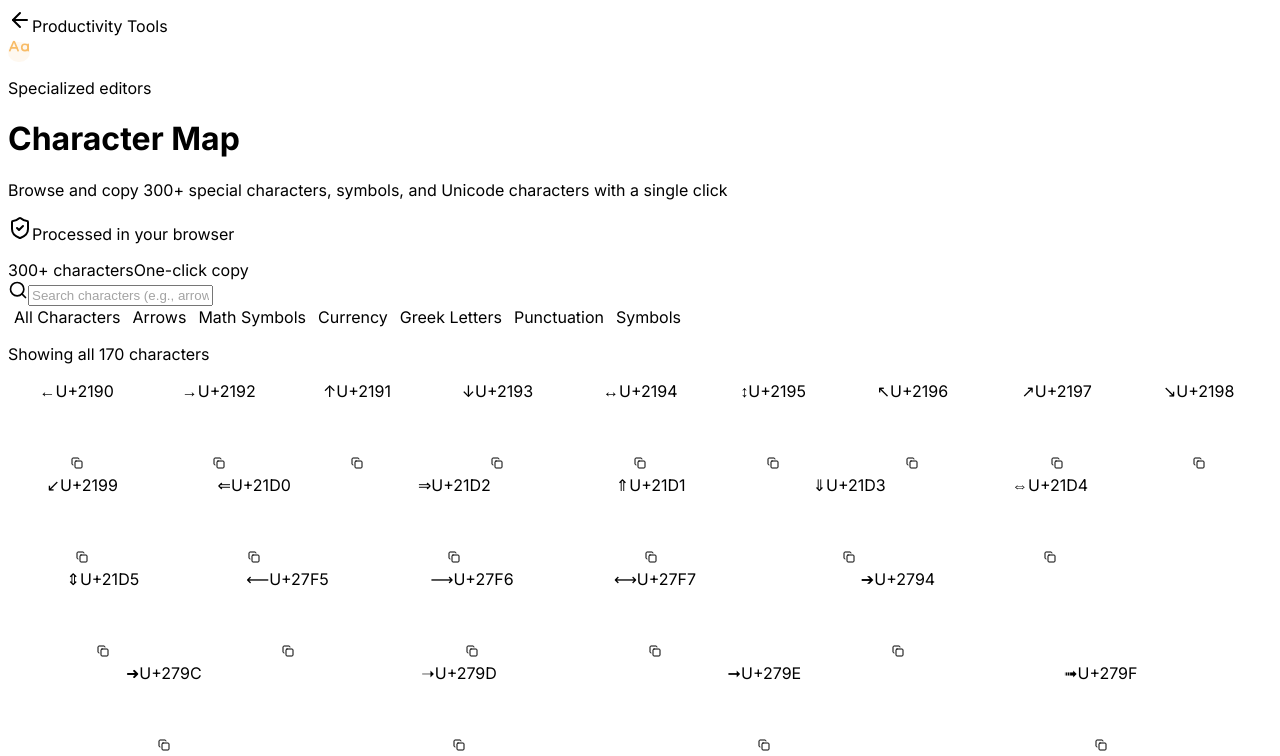
CharacterMapPage › search functionality › hides category buttons when searching
The width and height of the screenshot is (1280, 756).
Expected: the button "All Characters" is shown, [8,306,126,328]
Type "arrow" into the field with placeholder "Search characters (e.g., arrow, pi, euro)..." at [120, 295], box [28,285,213,306]
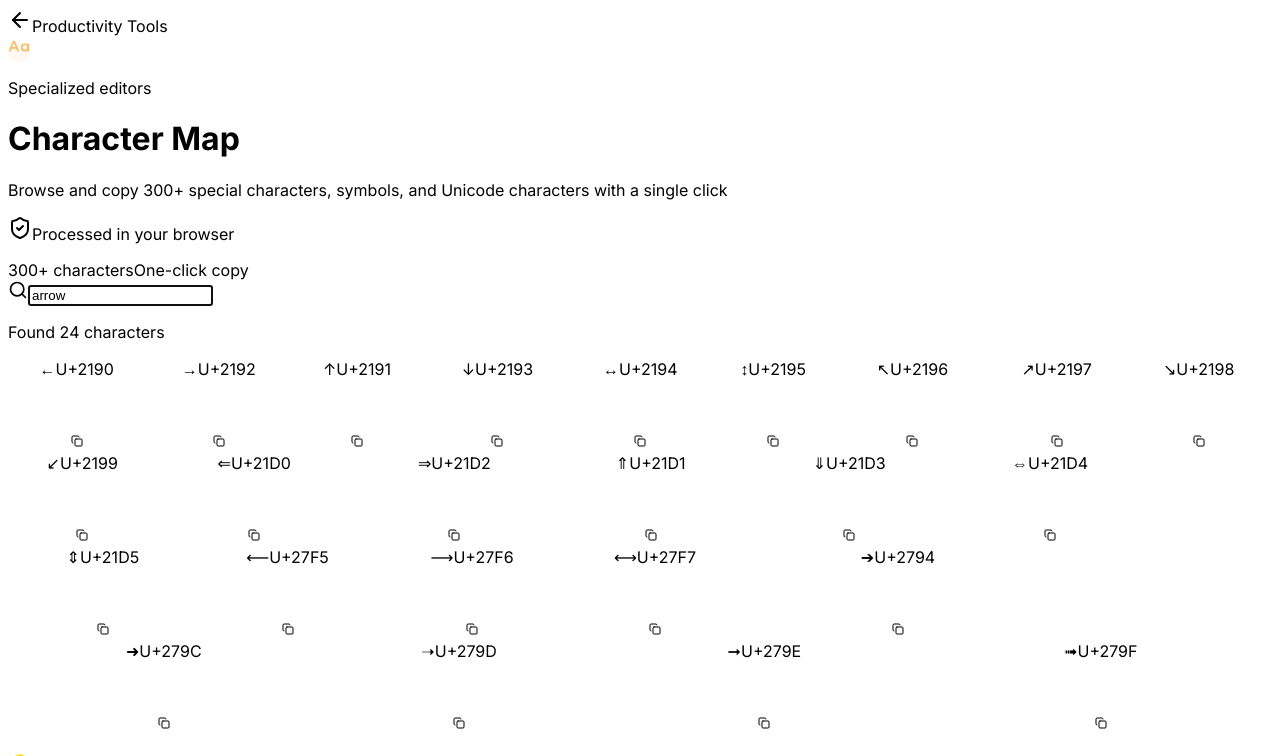
Result: the button "All Characters" is gone
